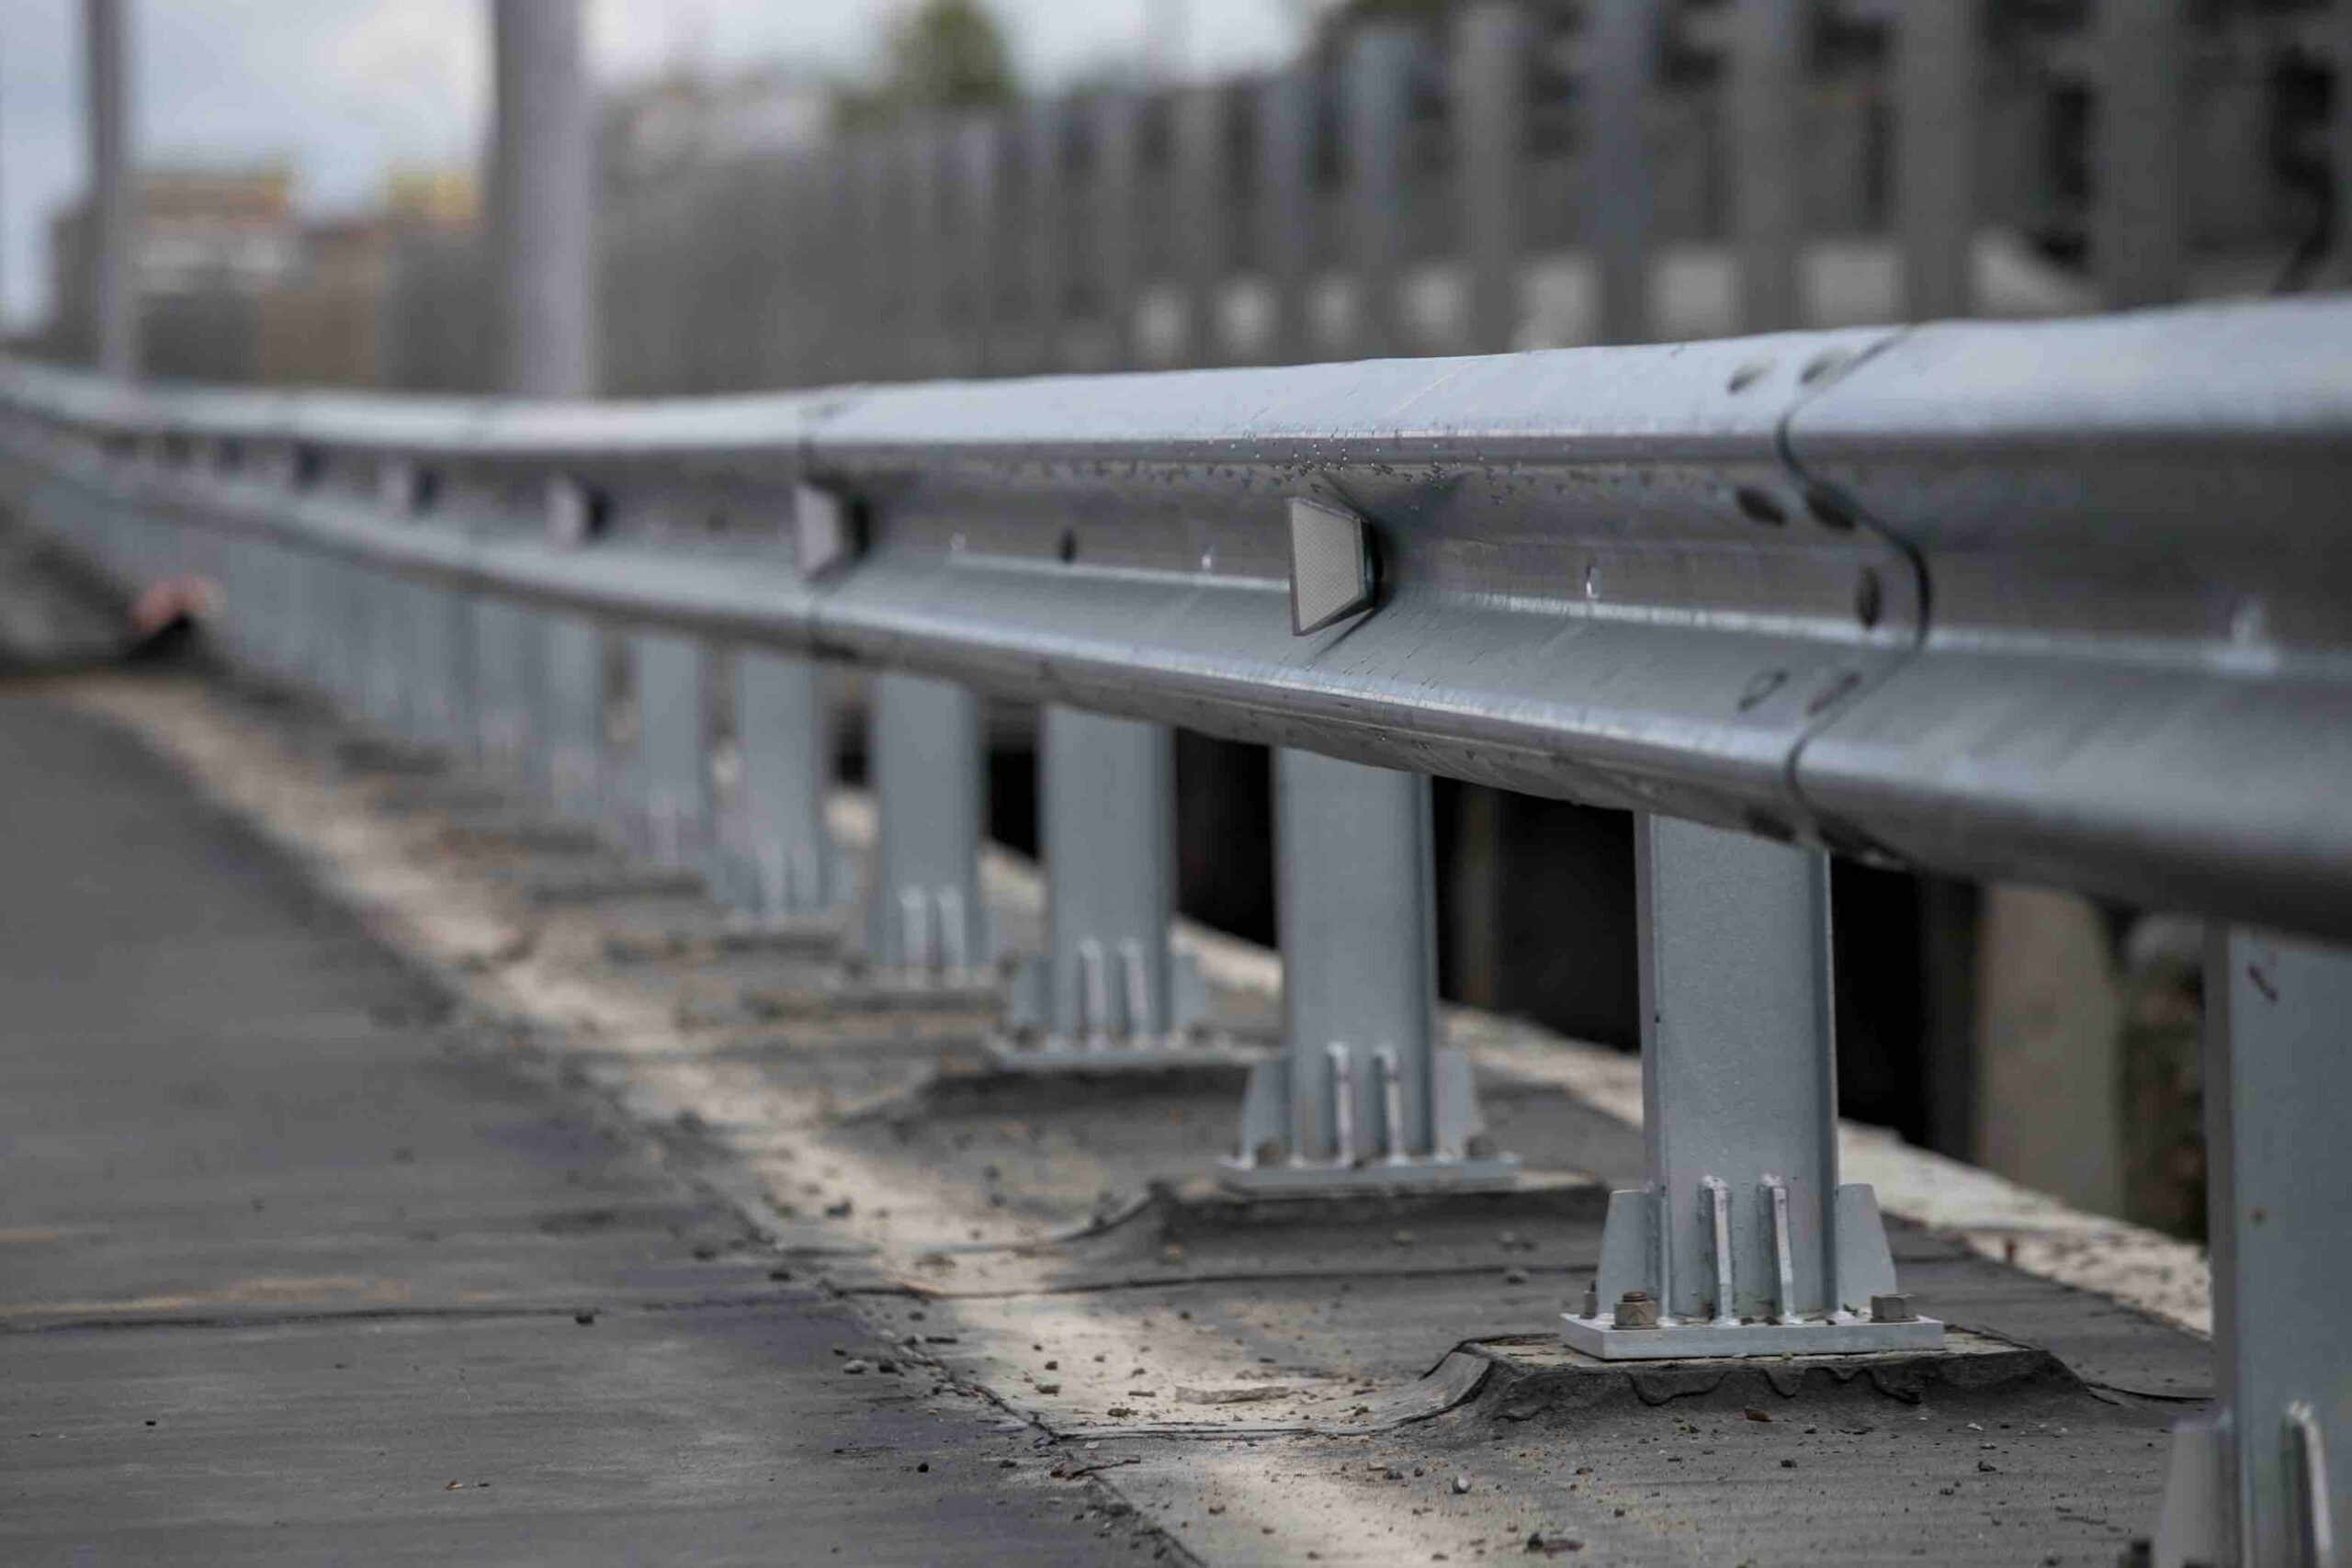not_damaged: (42, 376, 2352, 1068)
